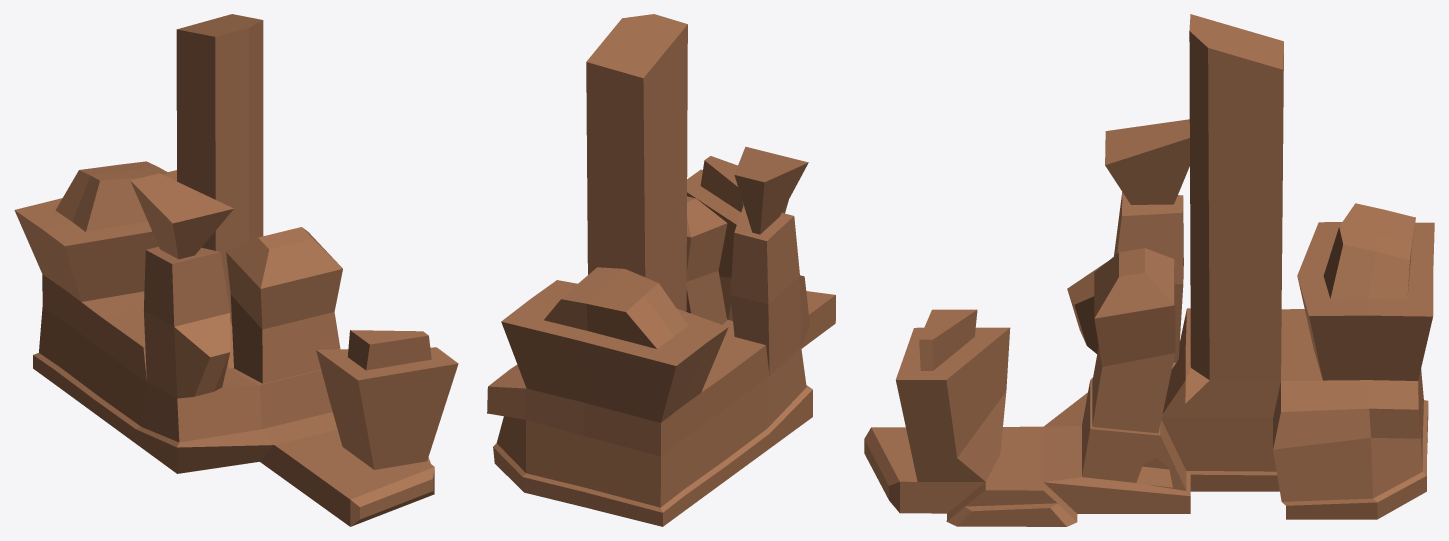
Rendered from rocky.fbx.
3 views of the same model, side by side, from view 1: azimuth 30°, elevation 25°; view 2: azimuth 150°, elevation 25°; view 3: azimuth 270°, elevation 25° (orthographic). The views are drawn at different scales.
Visible parts, largest first — view 1: rocky; view 2: rocky; view 3: rocky.
Boxes of the visible parts, bbox=[...] form: rocky: bbox=[14, 14, 458, 526]; rocky: bbox=[487, 14, 835, 526]; rocky: bbox=[864, 14, 1434, 526].
Size of the model in its own units: 22.11 by 38.71 by 44.62.
